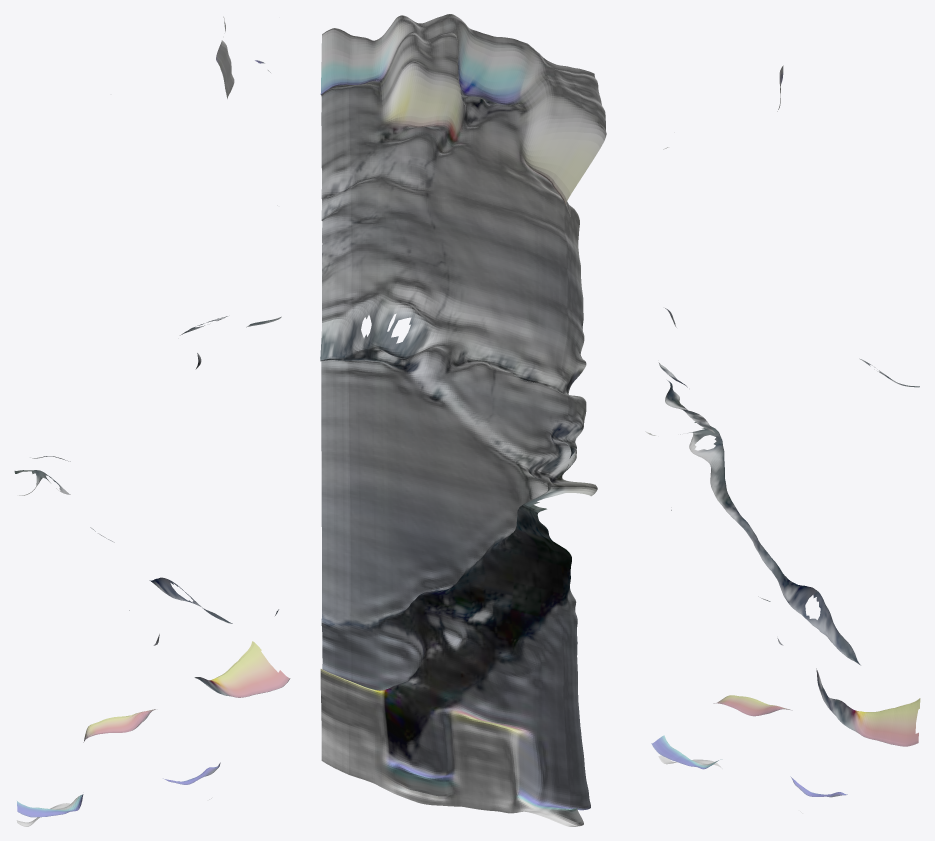
3 renders of one model, left to right at view 1: azimuth 30°, elevation 25°; view 2: azimuth 150°, elevation 25°; view 3: azimuth 330°, elevation 25°, orthographic. The views are drawn at different scales.
Parts seen in each view (by area): view 1: world; view 2: world; view 3: world.
Part boxes in pixels (box(x1,y1,x2,y2)): world: box(14, 16, 290, 826); world: box(320, 14, 606, 826); world: box(645, 65, 920, 813).
Bounding box in the file's own units: 1.68 × 4.6 × 0.4704.
